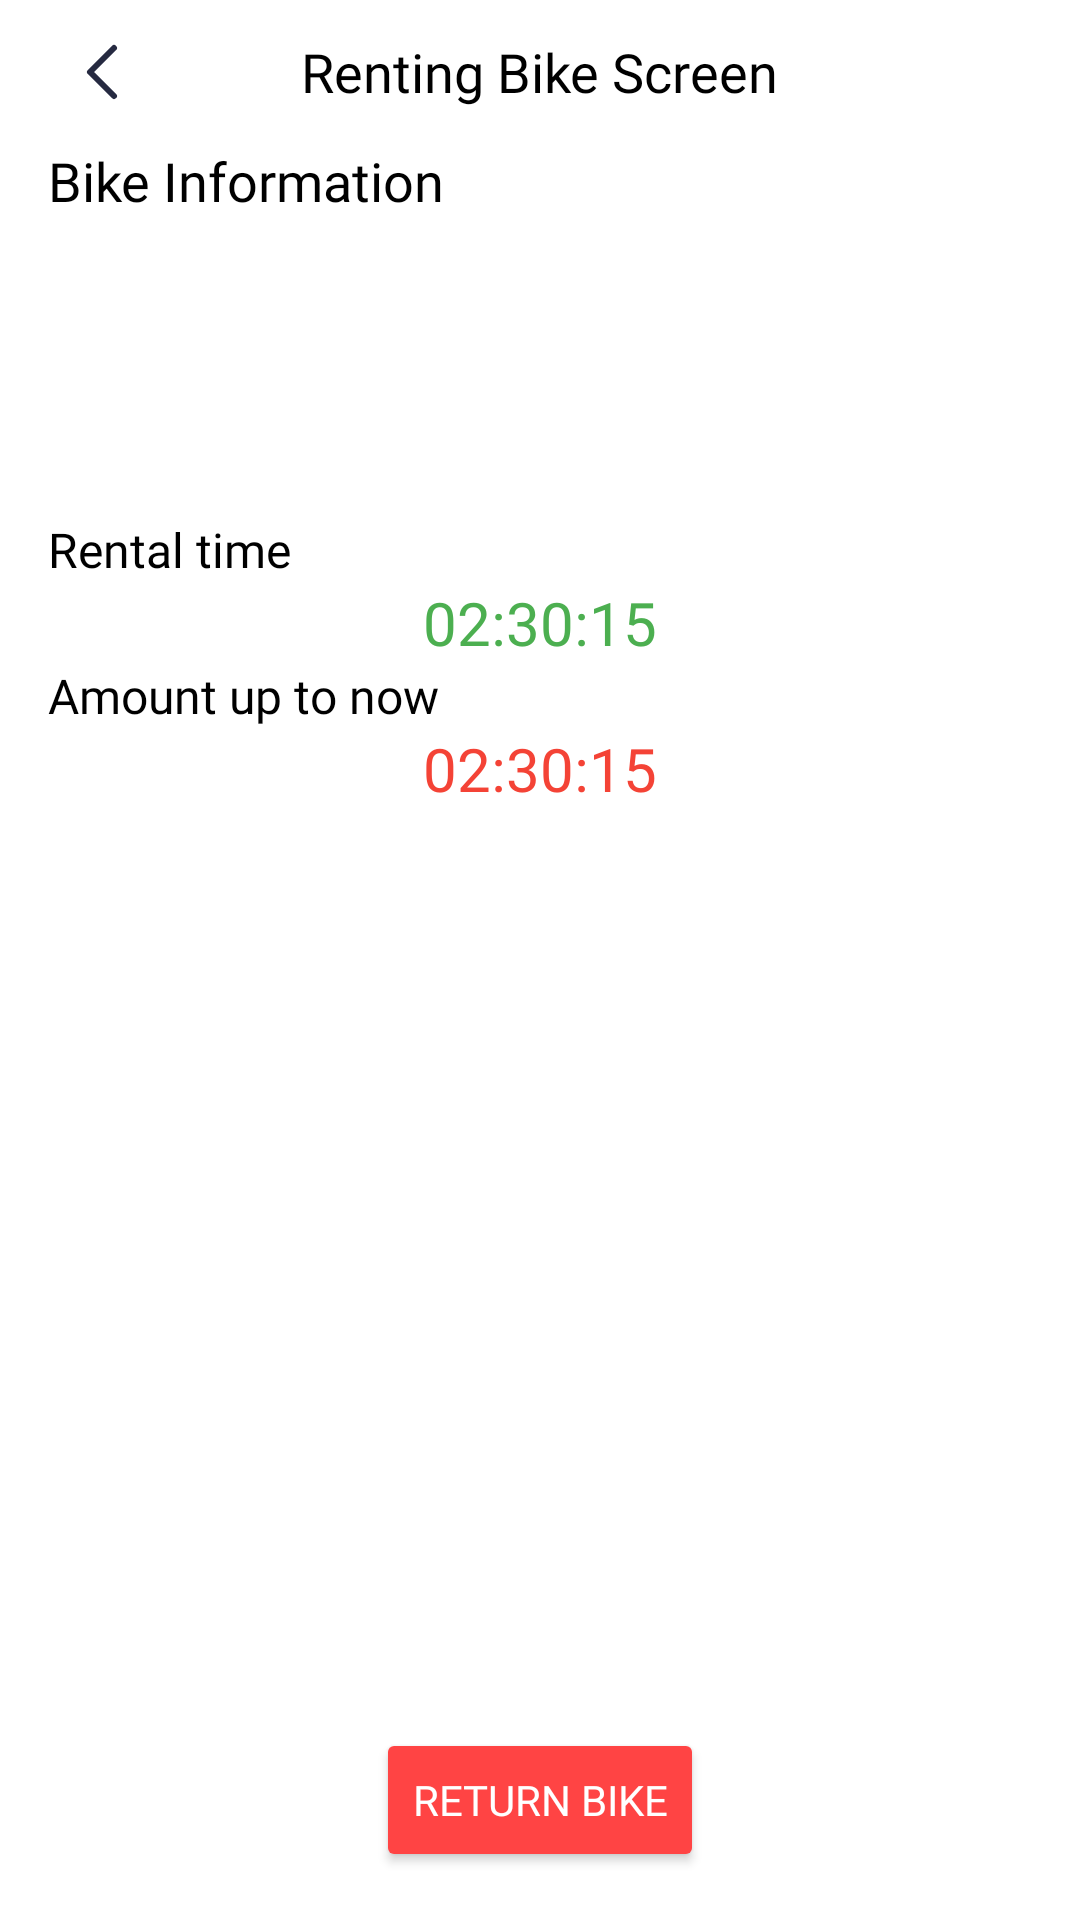

Screen size 1080px×1920px. Icon name, then its center in pixels as (x,y):
back: (102,71)
